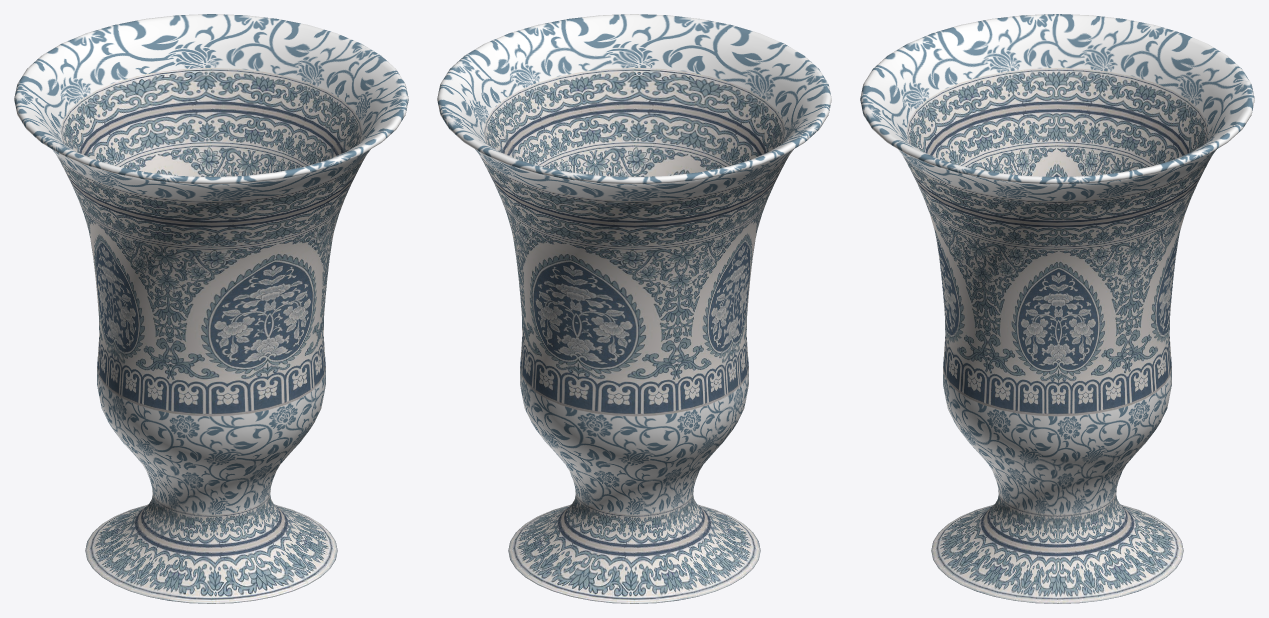
File: Vase_06.FBX
The picture shows the model from 3 angles, left to right: view 1: azimuth 30°, elevation 25°; view 2: azimuth 150°, elevation 25°; view 3: azimuth 270°, elevation 25°; orthographic projection.
Visible parts, largest first — view 1: Vase_06; view 2: Vase_06; view 3: Vase_06.
Part boxes in pixels (x1,y1,x2,y2): Vase_06: (14, 14, 408, 603); Vase_06: (437, 14, 831, 603); Vase_06: (860, 14, 1254, 603).
Size of the model in its own units: 487 by 487 by 619.
